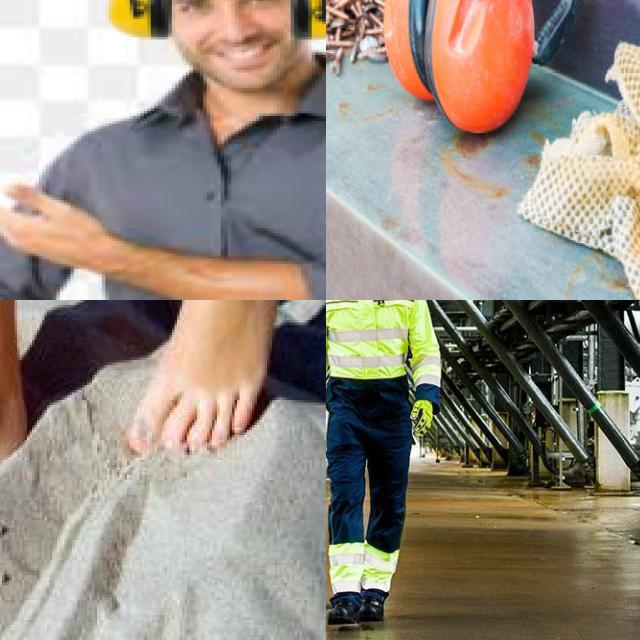Barefoots: (120, 300, 306, 460)
Ear-protection: (358, 0, 616, 145), (83, 0, 326, 47)
hand_glove: (406, 398, 434, 436)
person: (326, 300, 443, 634)
shoes: (326, 580, 365, 630), (352, 581, 389, 626)
vest: (326, 300, 440, 416)
